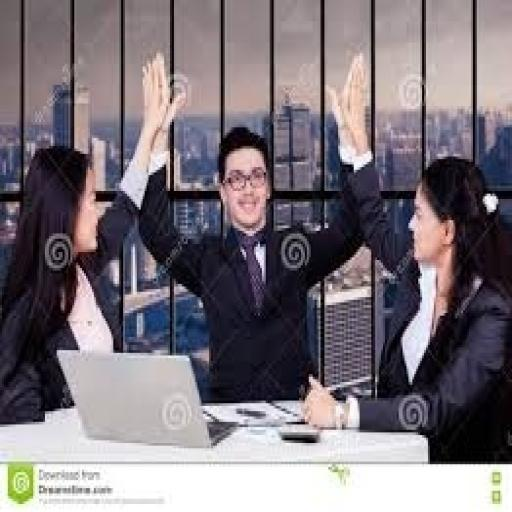clapping: (299, 48, 510, 462), (135, 48, 379, 403), (0, 50, 186, 424)
